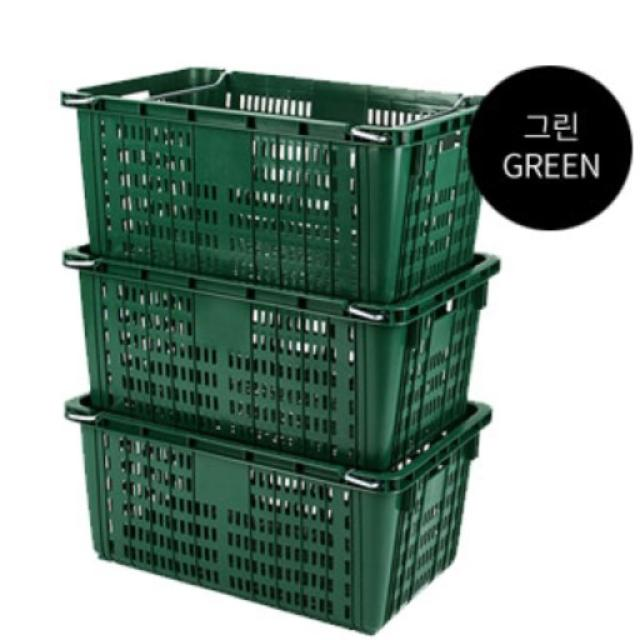basket: (43, 52, 492, 313), (63, 398, 492, 636), (62, 248, 500, 472)
